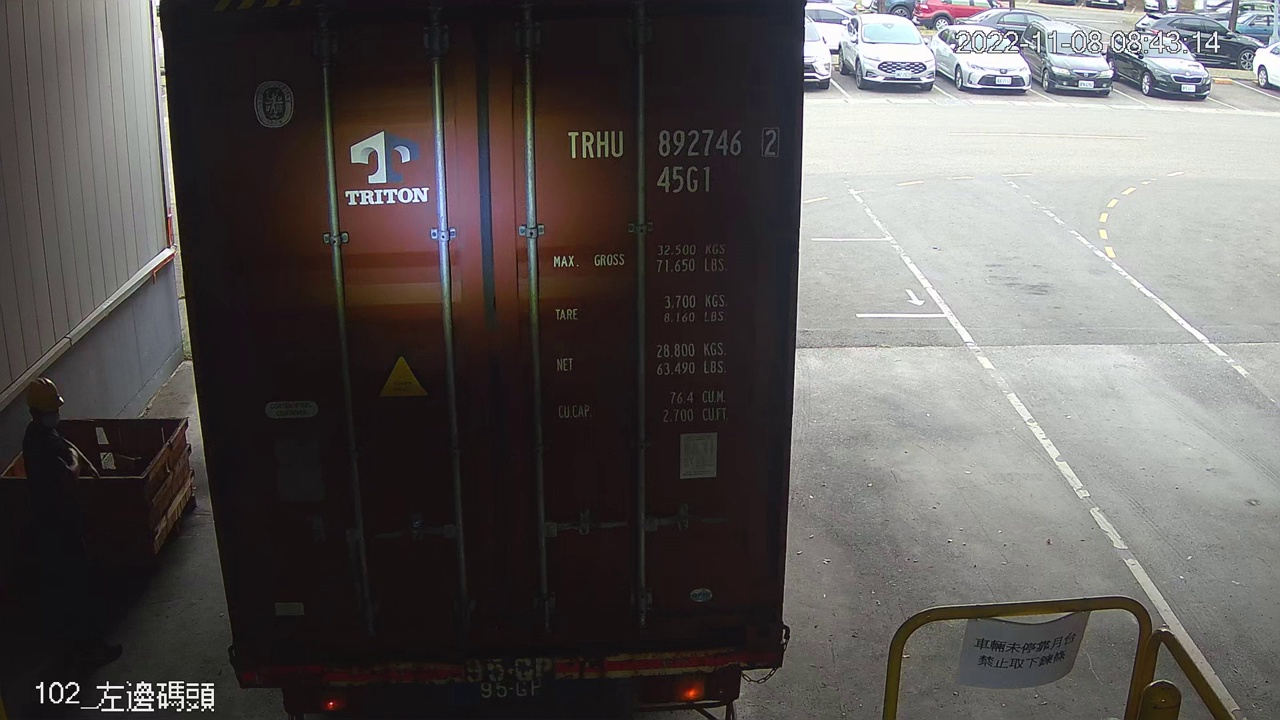container: (560, 118, 788, 200)
